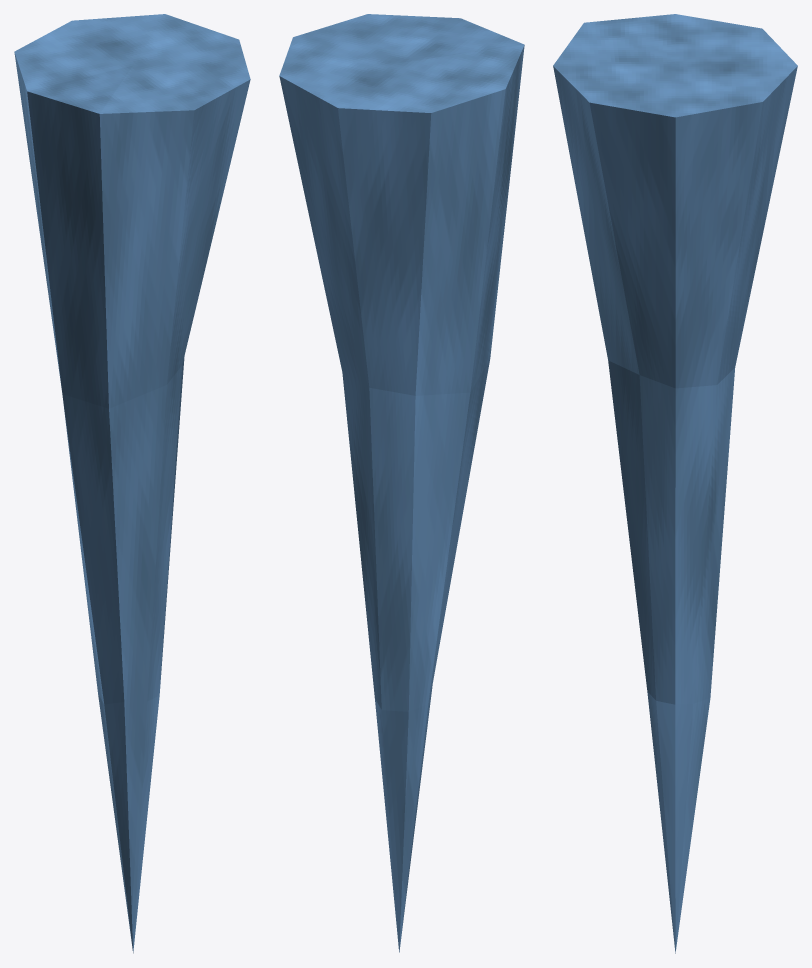
File: ed_icicle.fbx
3 views of the same model, side by side, from view 1: azimuth 30°, elevation 25°; view 2: azimuth 150°, elevation 25°; view 3: azimuth 270°, elevation 25° (orthographic).
Visible parts, largest first — view 1: Cone; view 2: Cone; view 3: Cone.
Boxes of the visible parts, bbox=[...] form: Cone: bbox=[14, 14, 250, 953]; Cone: bbox=[279, 14, 524, 952]; Cone: bbox=[553, 14, 797, 953].
Bounding box in the file's own units: 49.96 × 201 × 49.96.
